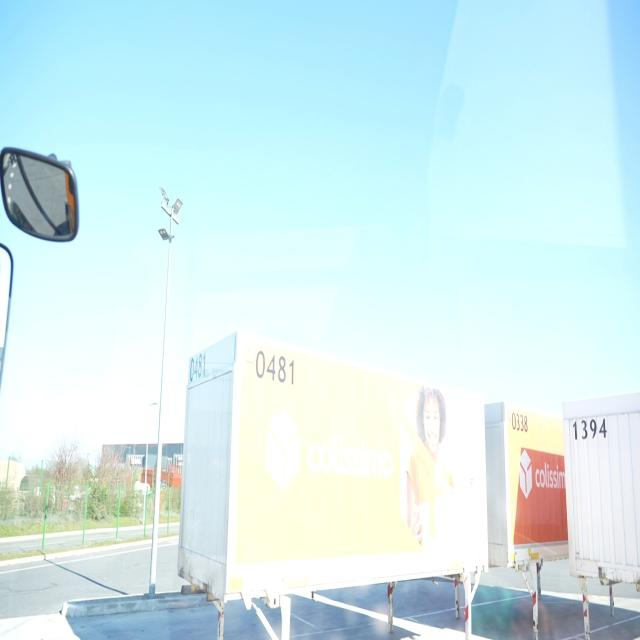Code: (250, 342, 302, 394), (569, 412, 609, 448), (186, 347, 211, 386), (508, 407, 530, 440)
